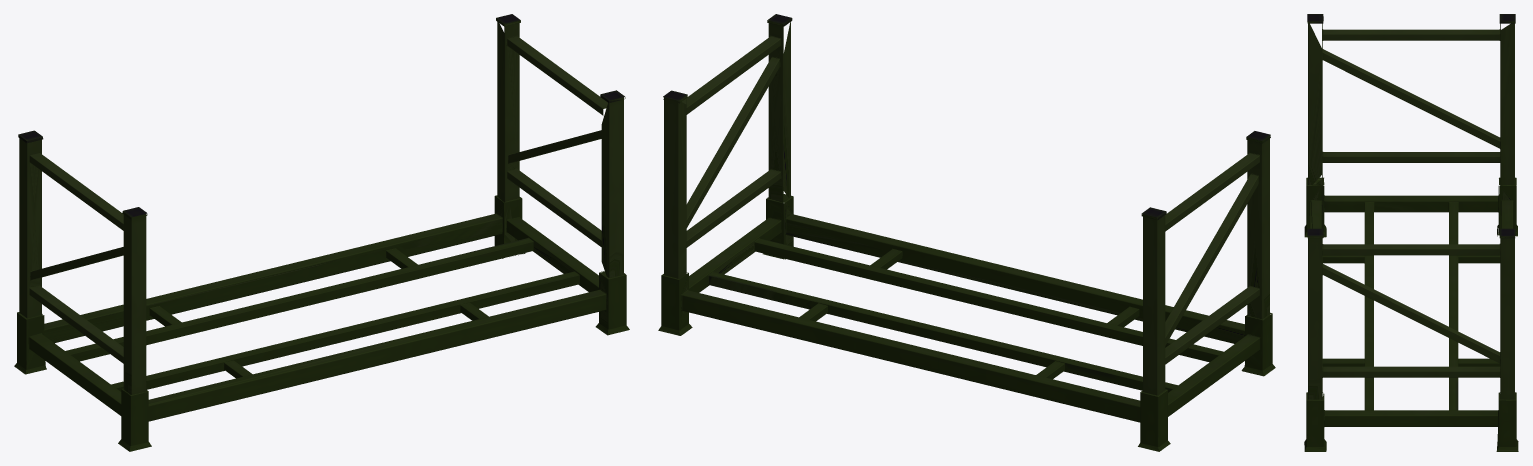
Rendered from storage_tire_rack_b01.glb.
The picture shows the model from 3 angles, left to right: view 1: azimuth 30°, elevation 25°; view 2: azimuth 150°, elevation 25°; view 3: azimuth 270°, elevation 25°; orthographic projection. The views are drawn at different scales.
Visible parts, largest first — view 1: geometry_0; view 2: geometry_0; view 3: geometry_0.
Part boxes in pixels (x1,y1,x2,y2): geometry_0: (14, 14, 629, 451); geometry_0: (658, 14, 1275, 451); geometry_0: (1304, 14, 1518, 451).
Size of the model in its own units: 0.42 by 0.1869 by 0.1692.
1 material, 1 textured.
